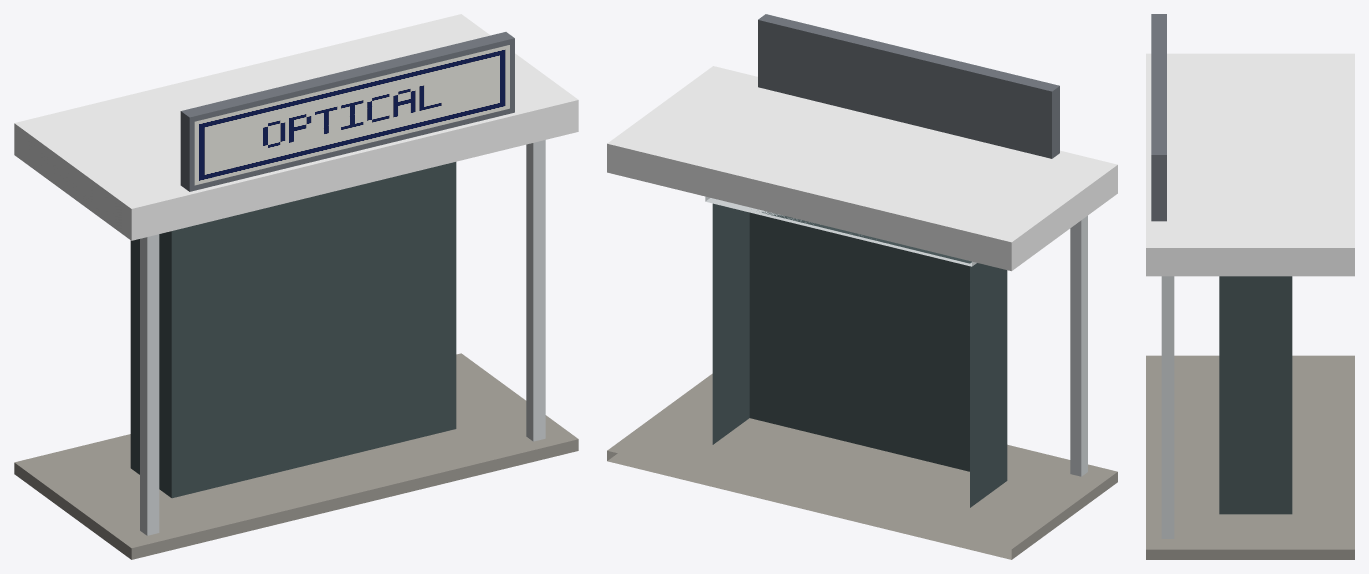
The model's file is entrance.fbx.
3 renders of one model, left to right at view 1: azimuth 30°, elevation 25°; view 2: azimuth 150°, elevation 25°; view 3: azimuth 270°, elevation 25°, orthographic. The views are drawn at different scales.
Parts seen in each view (by area): view 1: a2009/400/entrance; view 2: a2009/400/entrance; view 3: a2009/400/entrance.
Boxes of the visible parts, left/top/right/bottom form: a2009/400/entrance: left=14, top=14, right=578, bottom=559; a2009/400/entrance: left=607, top=14, right=1117, bottom=559; a2009/400/entrance: left=1146, top=14, right=1354, bottom=559.
Bounding box in the file's own units: 4.4 × 4 × 2.
